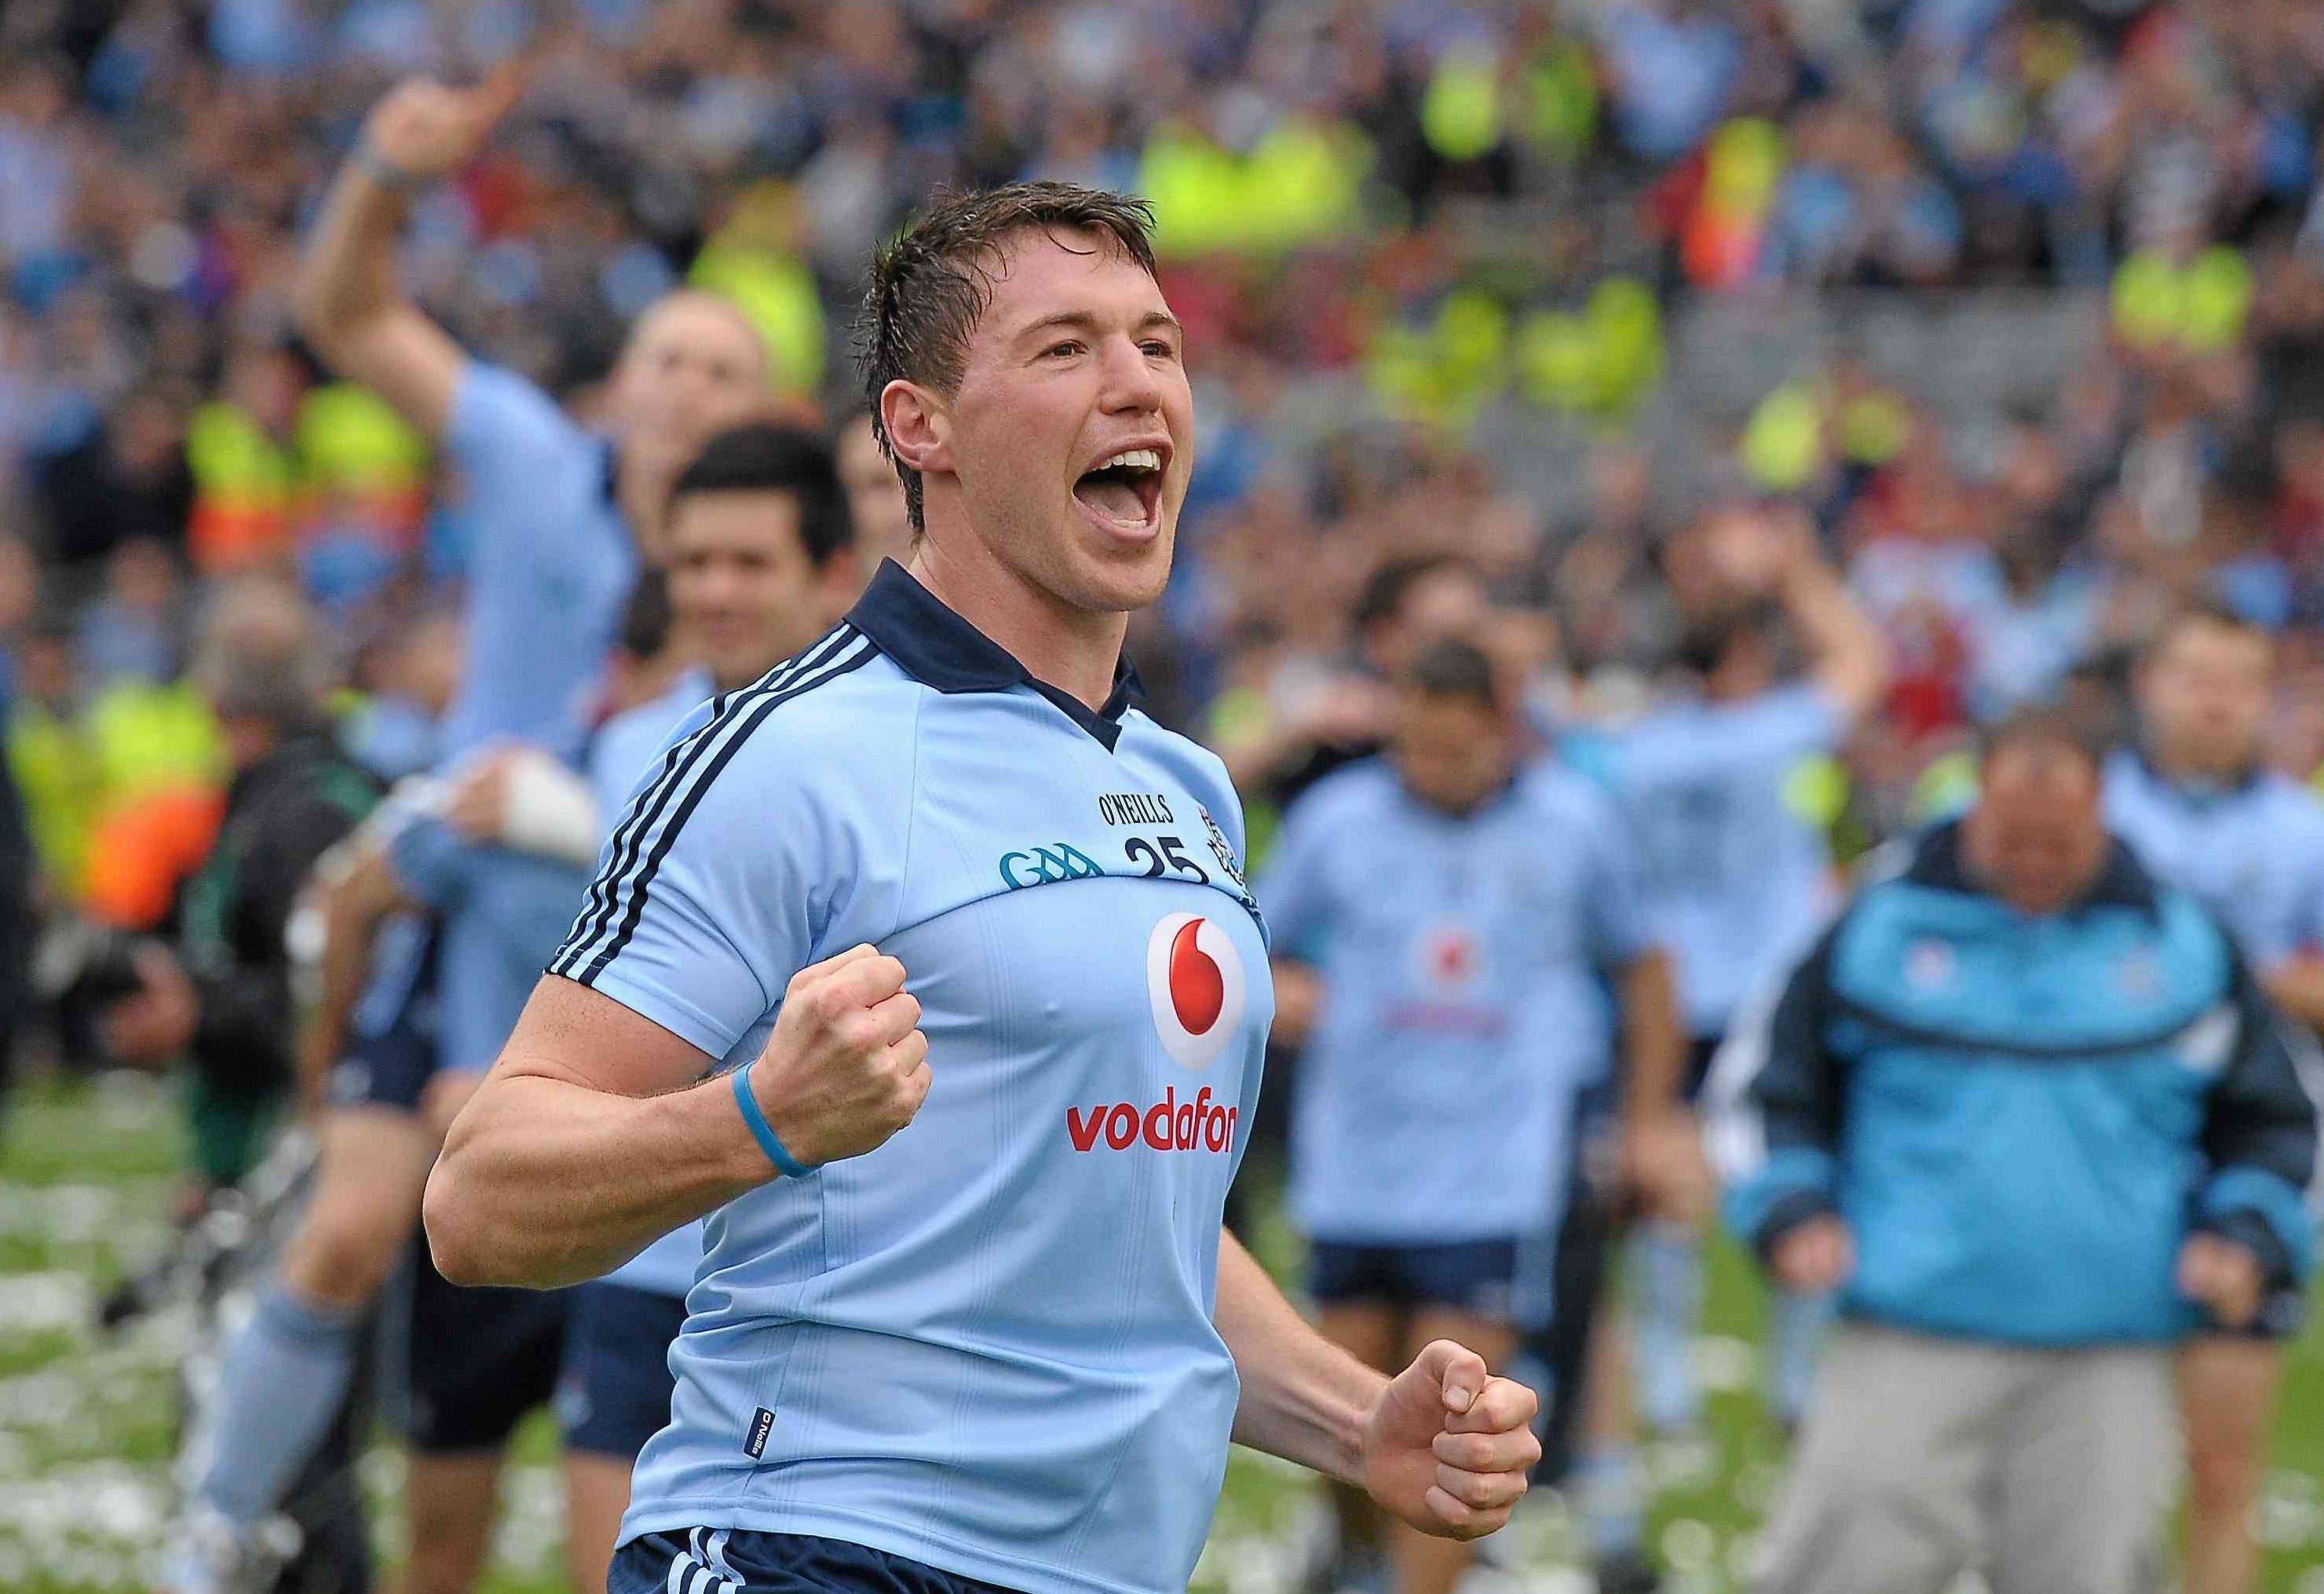player: (484, 137, 1271, 1532), (1837, 710, 2245, 1554), (405, 206, 848, 826), (1315, 646, 1617, 1471)
